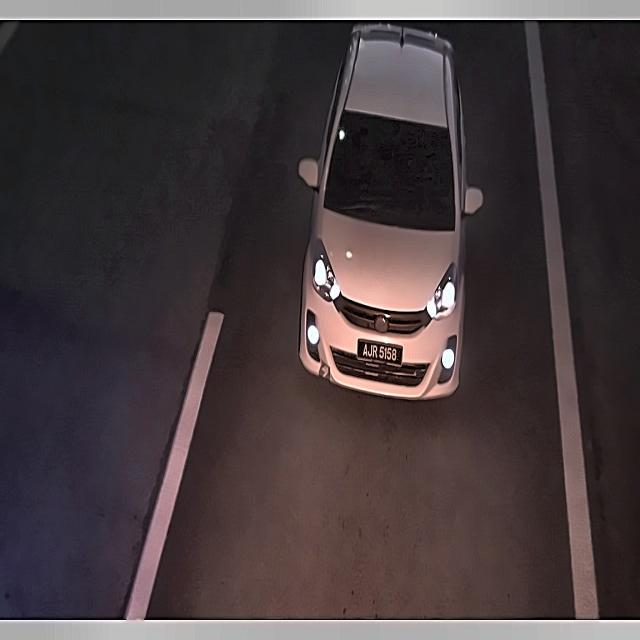car: (354, 336, 406, 369)
